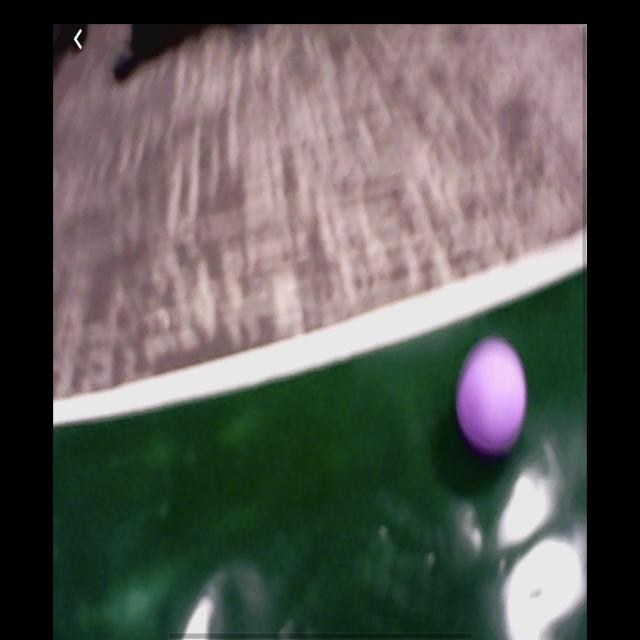ball: (455, 335, 529, 459)
